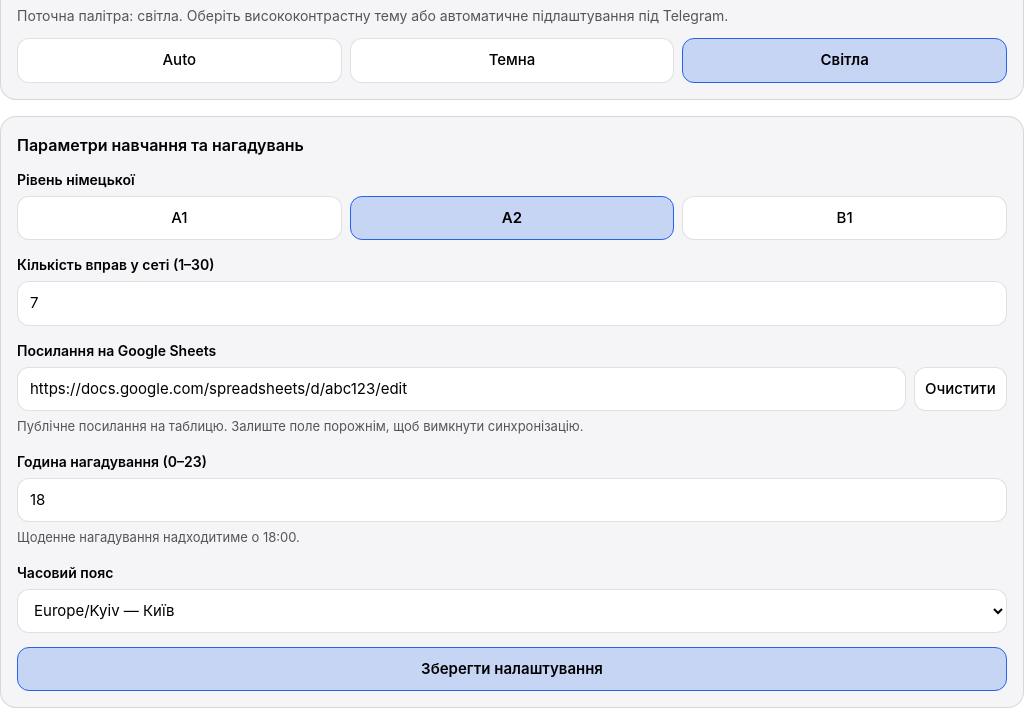
Test: SettingsPage › saves updated settings including custom IANA timezone and clearing sheets_url to null
// Change level to B1, exercises to 12, reminder hour to 9, custom timezone America/Chicago, clear sheets_url
Click the button "B1". click: click(845, 218)
box: [682, 196, 1007, 240]
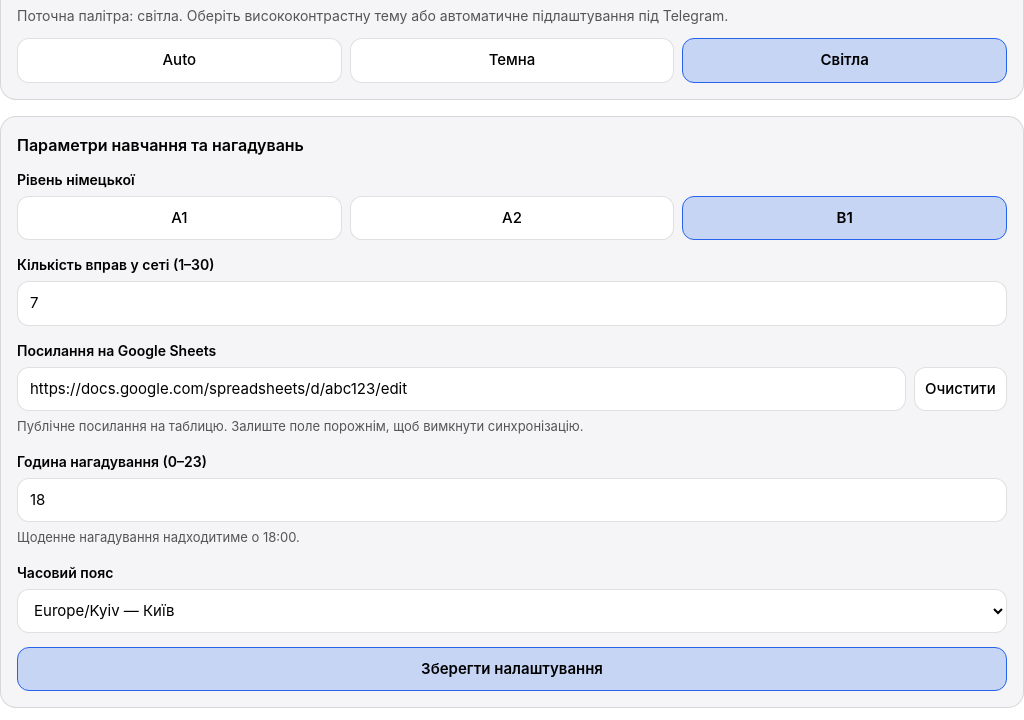
Replace the text in the number field labelled "Кількість вправ у сеті (1–30)" with "12". click: (512, 303)
box: [17, 281, 1007, 326]
Click the button with aria-label "Очистити посилання Google Sheets". click: click(960, 389)
box: [914, 366, 1007, 411]
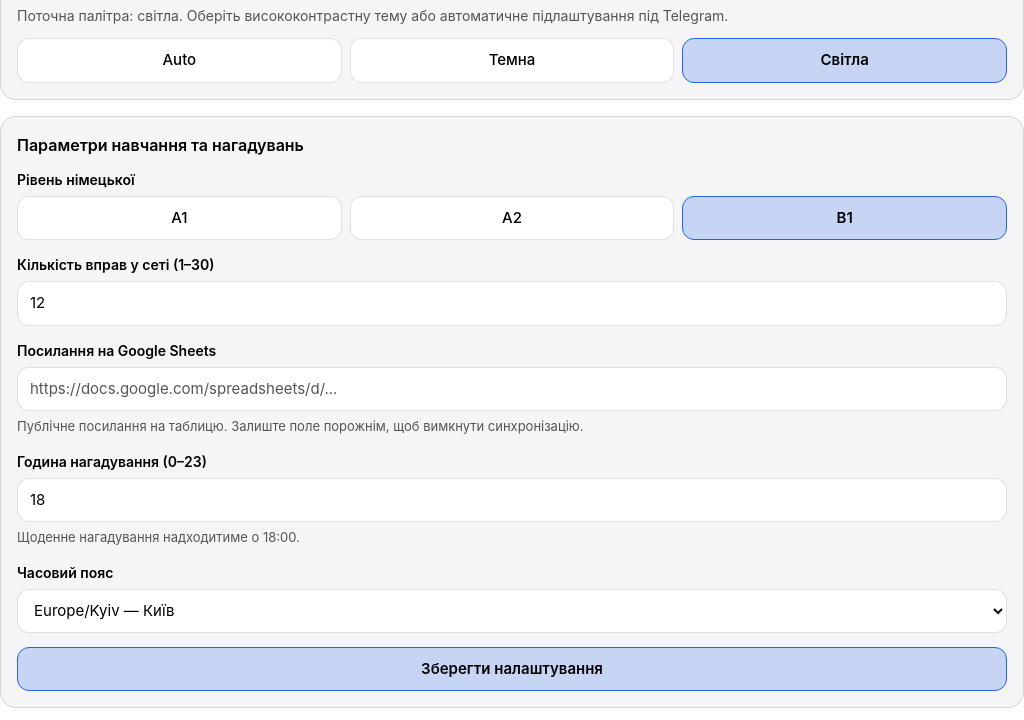
expect the field labelled "Посилання на Google Sheets" is empty: met, box [17, 366, 1007, 411]
Replace the text in the number field labelled "Година нагадування (0–23)" with "9". click: (512, 500)
box: [17, 478, 1007, 522]
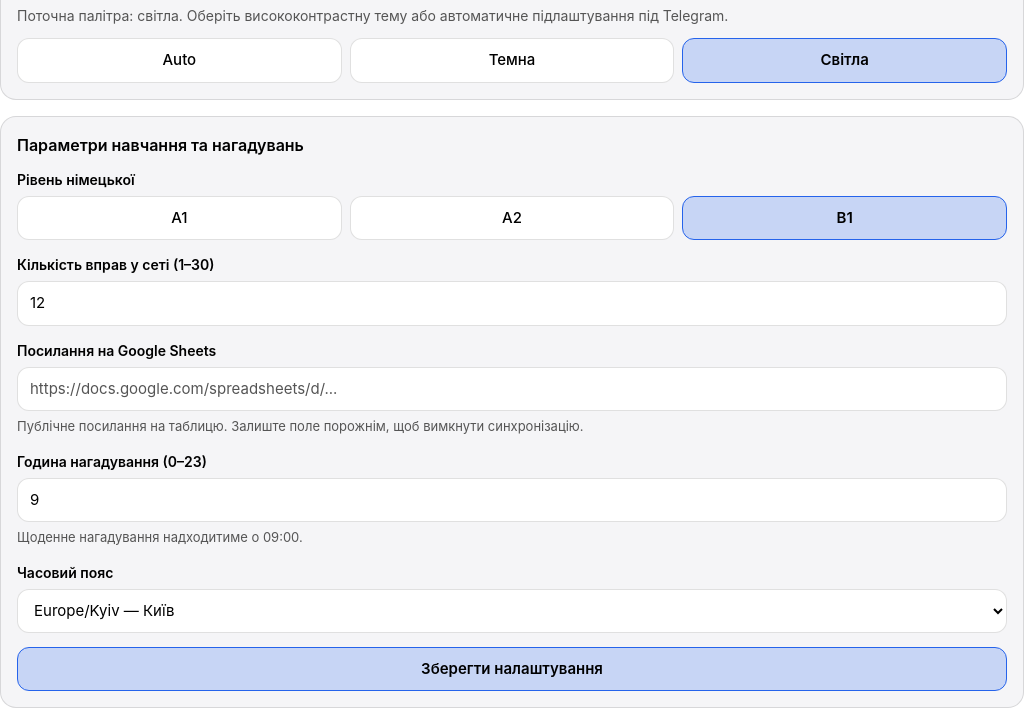
Select "Інший часовий пояс (ввести вручну)" in the dropdown labelled "Часовий пояс". click: (512, 610)
box: [17, 588, 1007, 632]
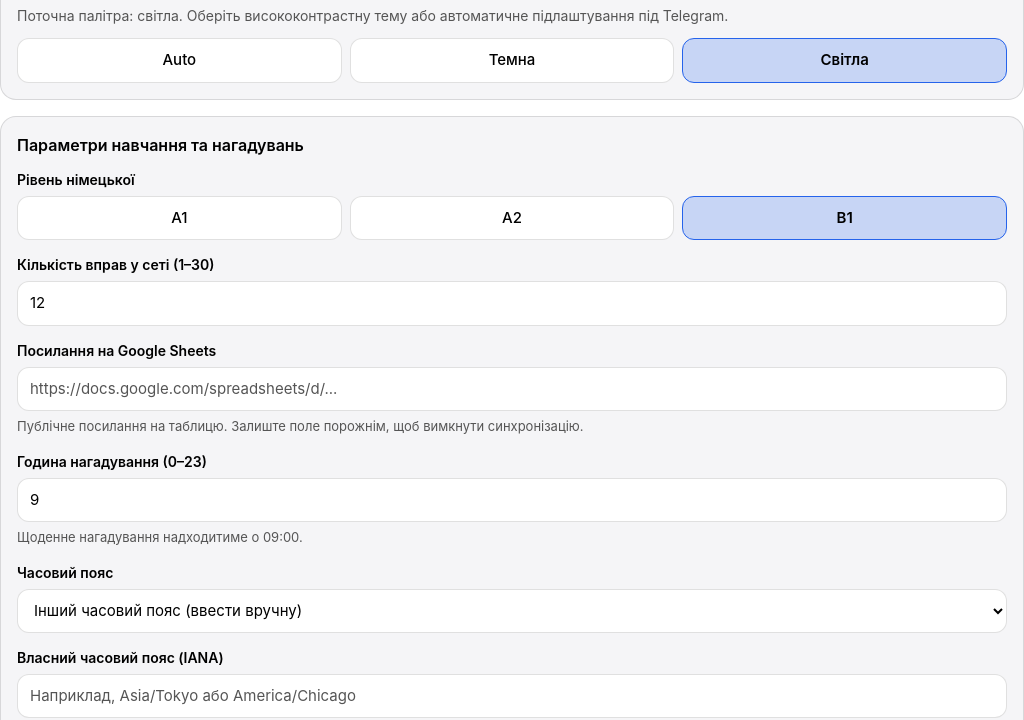
Type "America/Chicago" into the field labelled "Власний часовий пояс (IANA)". click: (512, 696)
box: [17, 674, 1007, 718]
(page scrolled)
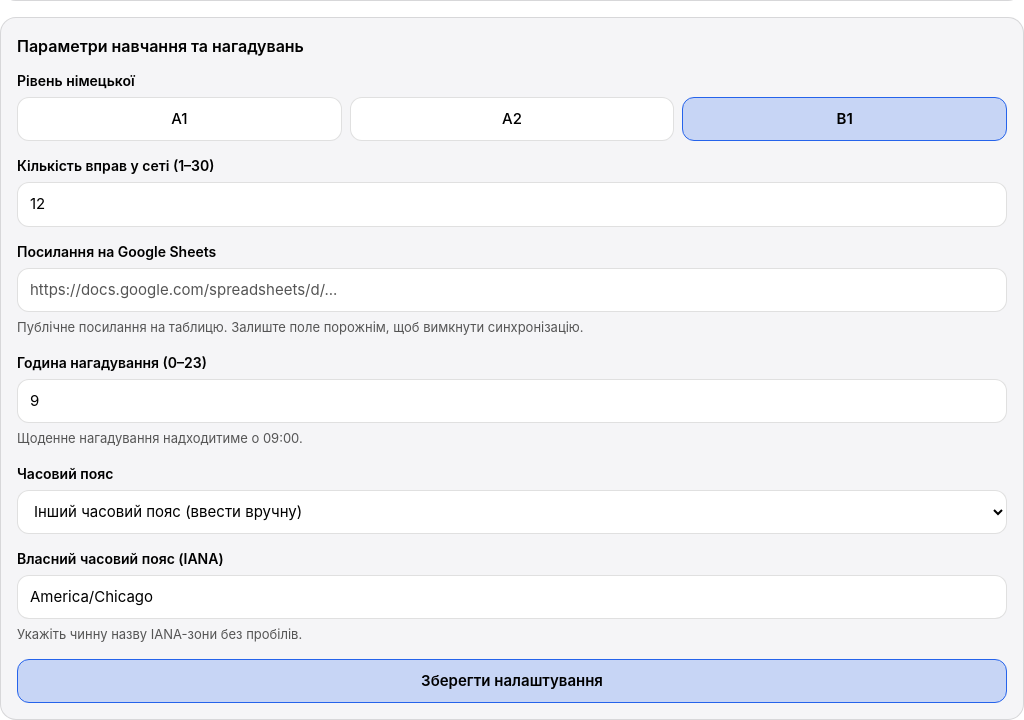
Click the button "Зберегти налаштування". click: click(512, 681)
box: [17, 658, 1007, 703]
(page scrolled)
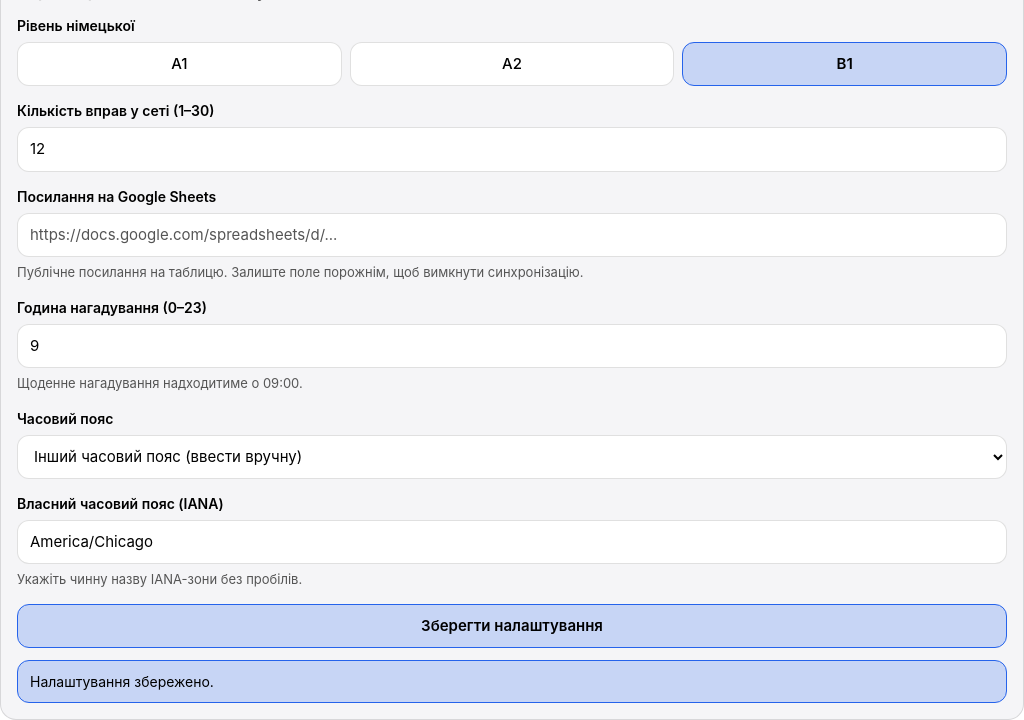
expect the text "Налаштування збережено." is shown: met, box [17, 660, 1007, 703]
